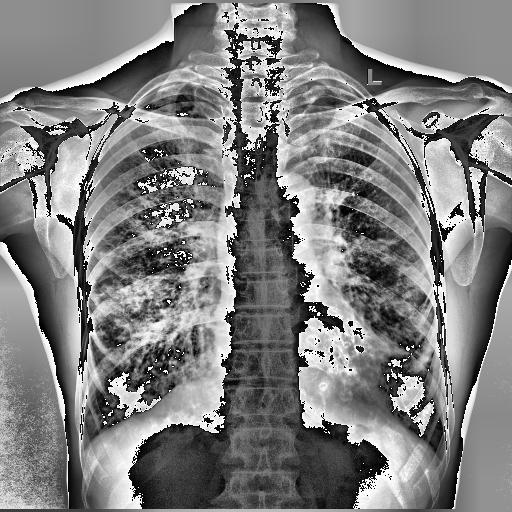5- ILD: (314, 92, 458, 420), (86, 93, 212, 433), (96, 115, 220, 423), (308, 182, 435, 399), (97, 188, 194, 399), (334, 192, 440, 382)
